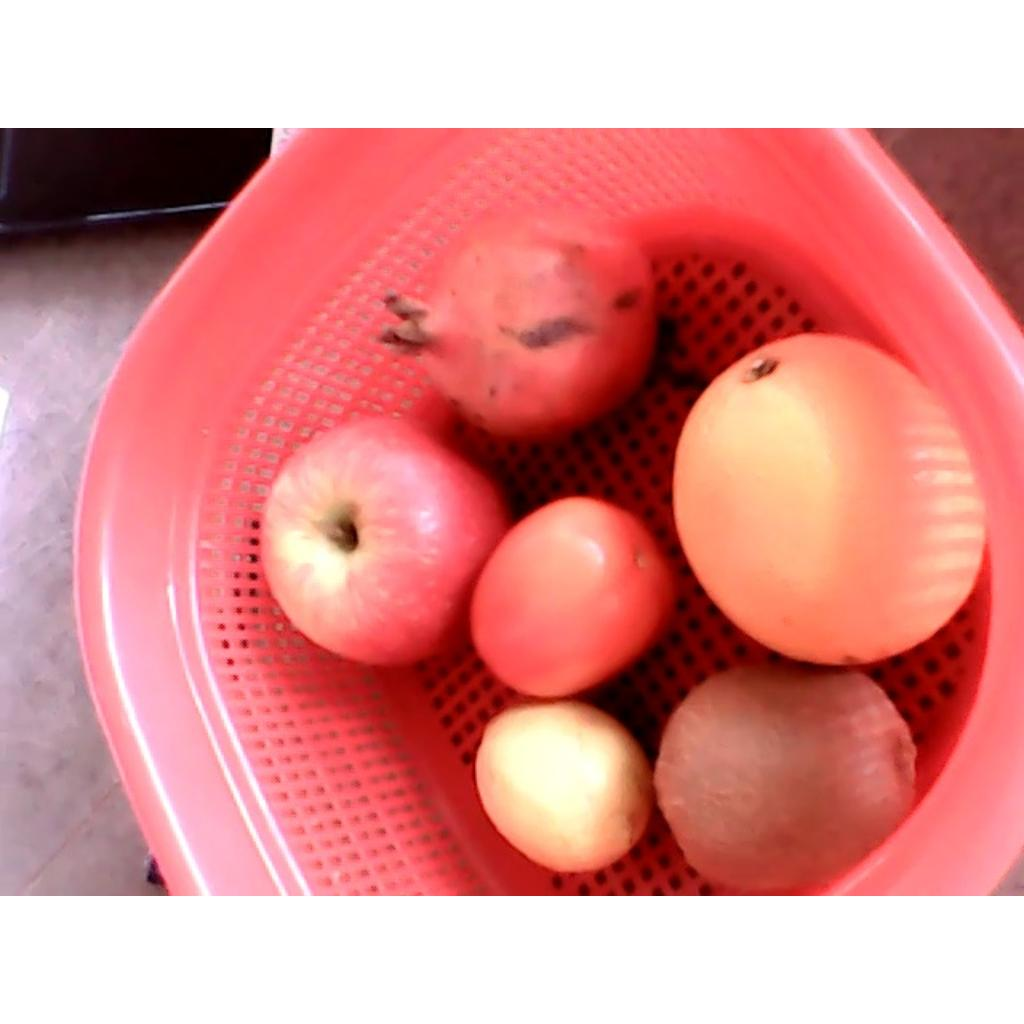apple: (256, 420, 512, 669)
kiwi: (655, 661, 917, 893)
lemon: (474, 702, 654, 875)
orange: (672, 333, 986, 666)
pomegranate: (378, 204, 657, 445)
tomato: (468, 495, 674, 698)
